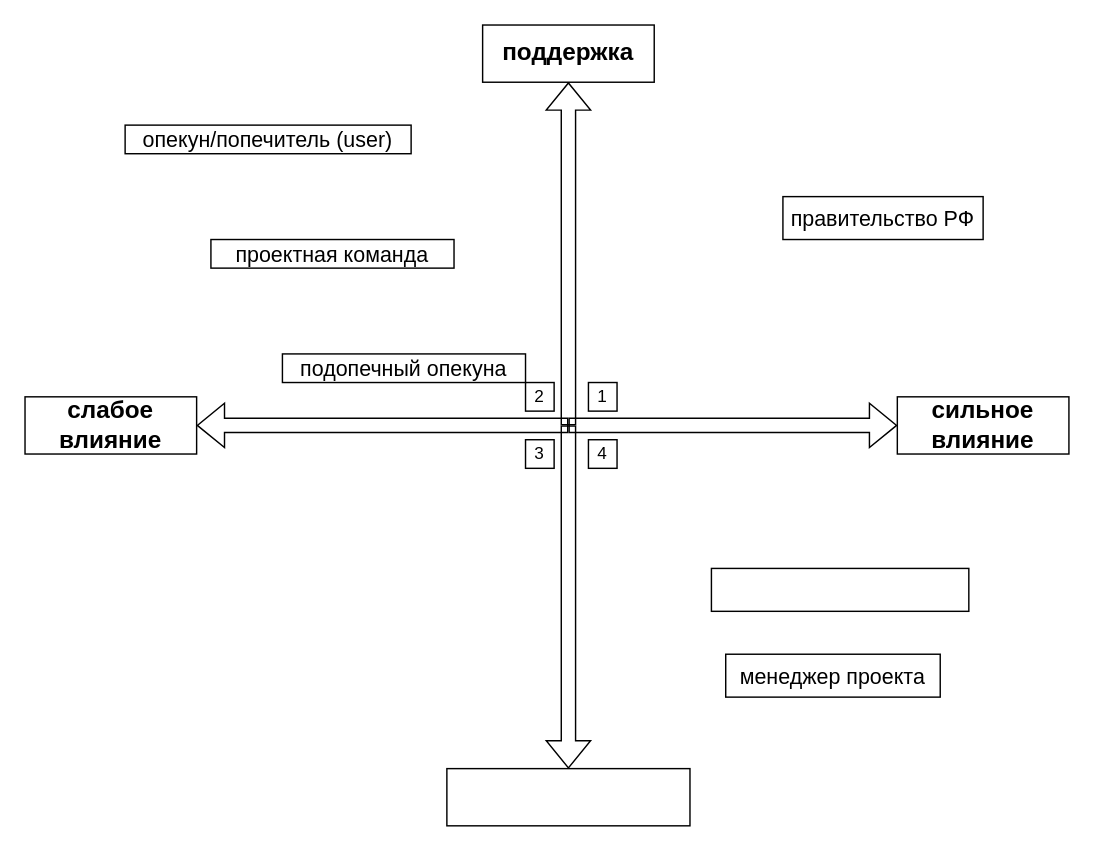
Image size: 1094x851. Some labels were removed from this diagram. The centre of each missing label's shape, as x and y in pixels:
"исполнительная власть" goes at (x=839, y=589).
"противодействие" goes at (x=567, y=796).
